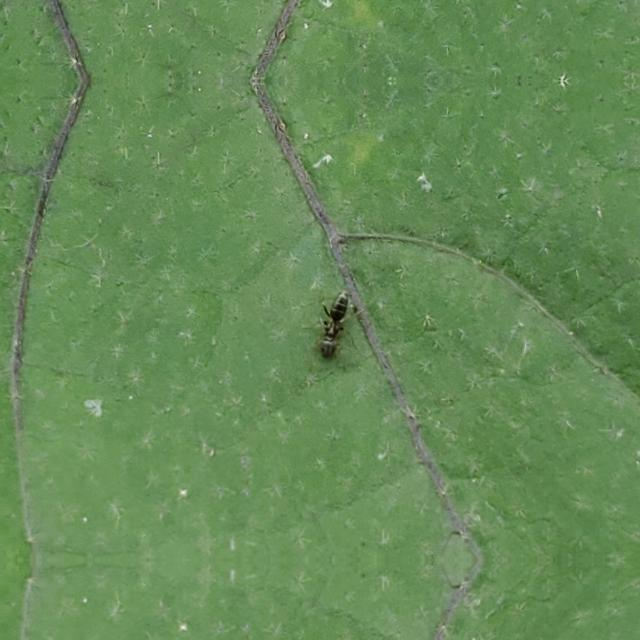Tapinoma: (300, 284, 368, 364)
